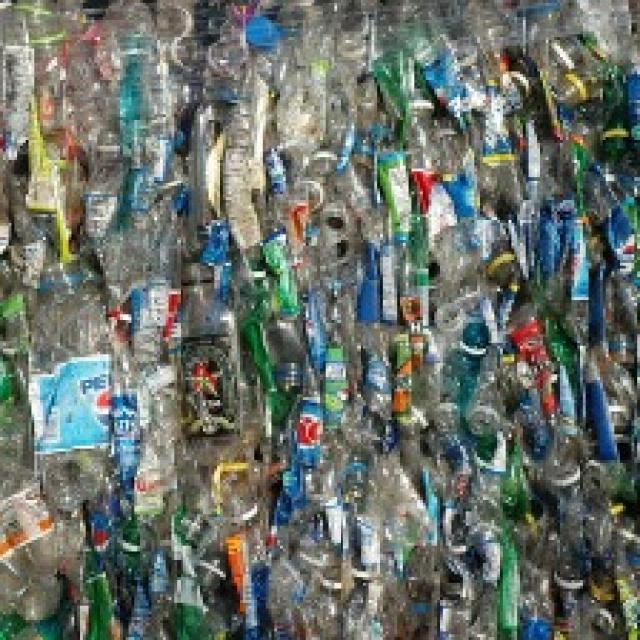heap: (49, 45, 640, 640)
plastic_bottle: (33, 263, 150, 498)
